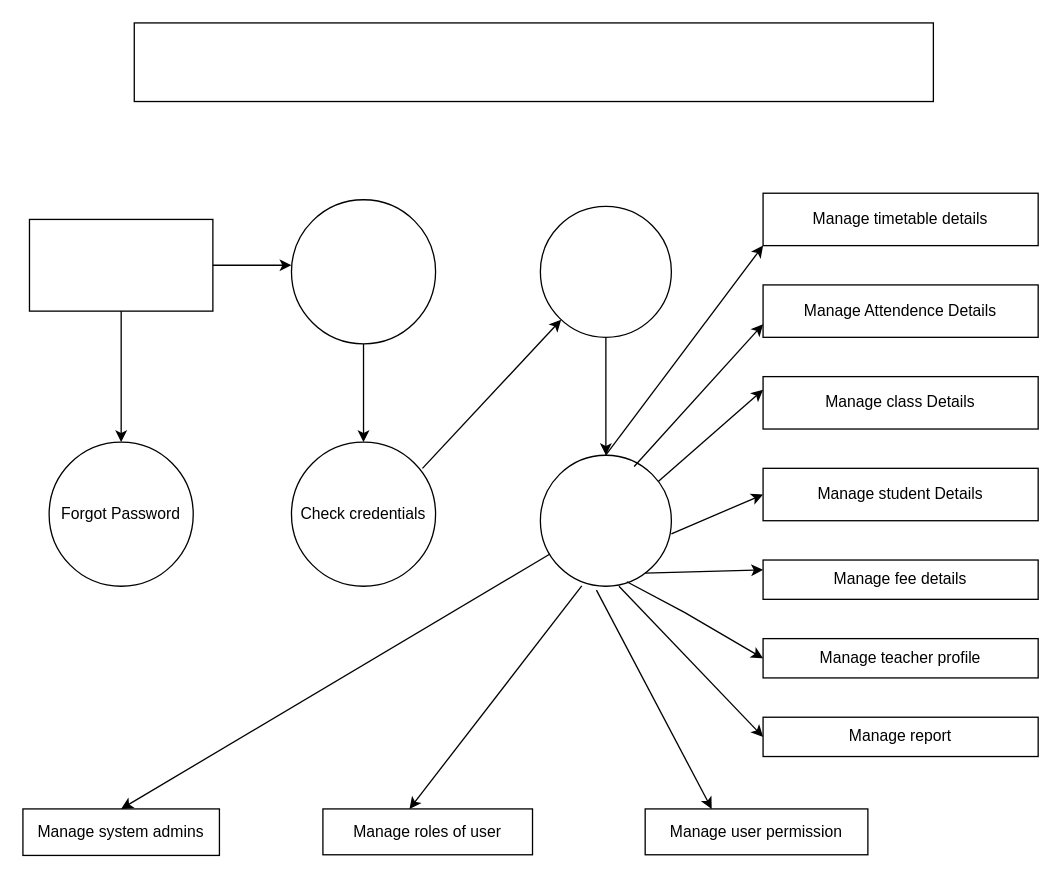
Image size: 1061x879. Some labels were removed from this diagram. The shapes that lost their labels are listed below. From the top down, each one's centre as x and y in pixels, then its label:
At (x=533, y=62): "STUDENT INFORMATION SYSTEM".
At (x=120, y=264): "Admin".
At (x=363, y=271): "Log in to system".
At (x=605, y=271): "Check roles for access".
At (x=605, y=520): "Manage modules".
